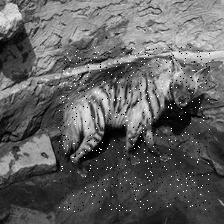hyena: (57, 47, 209, 212)
